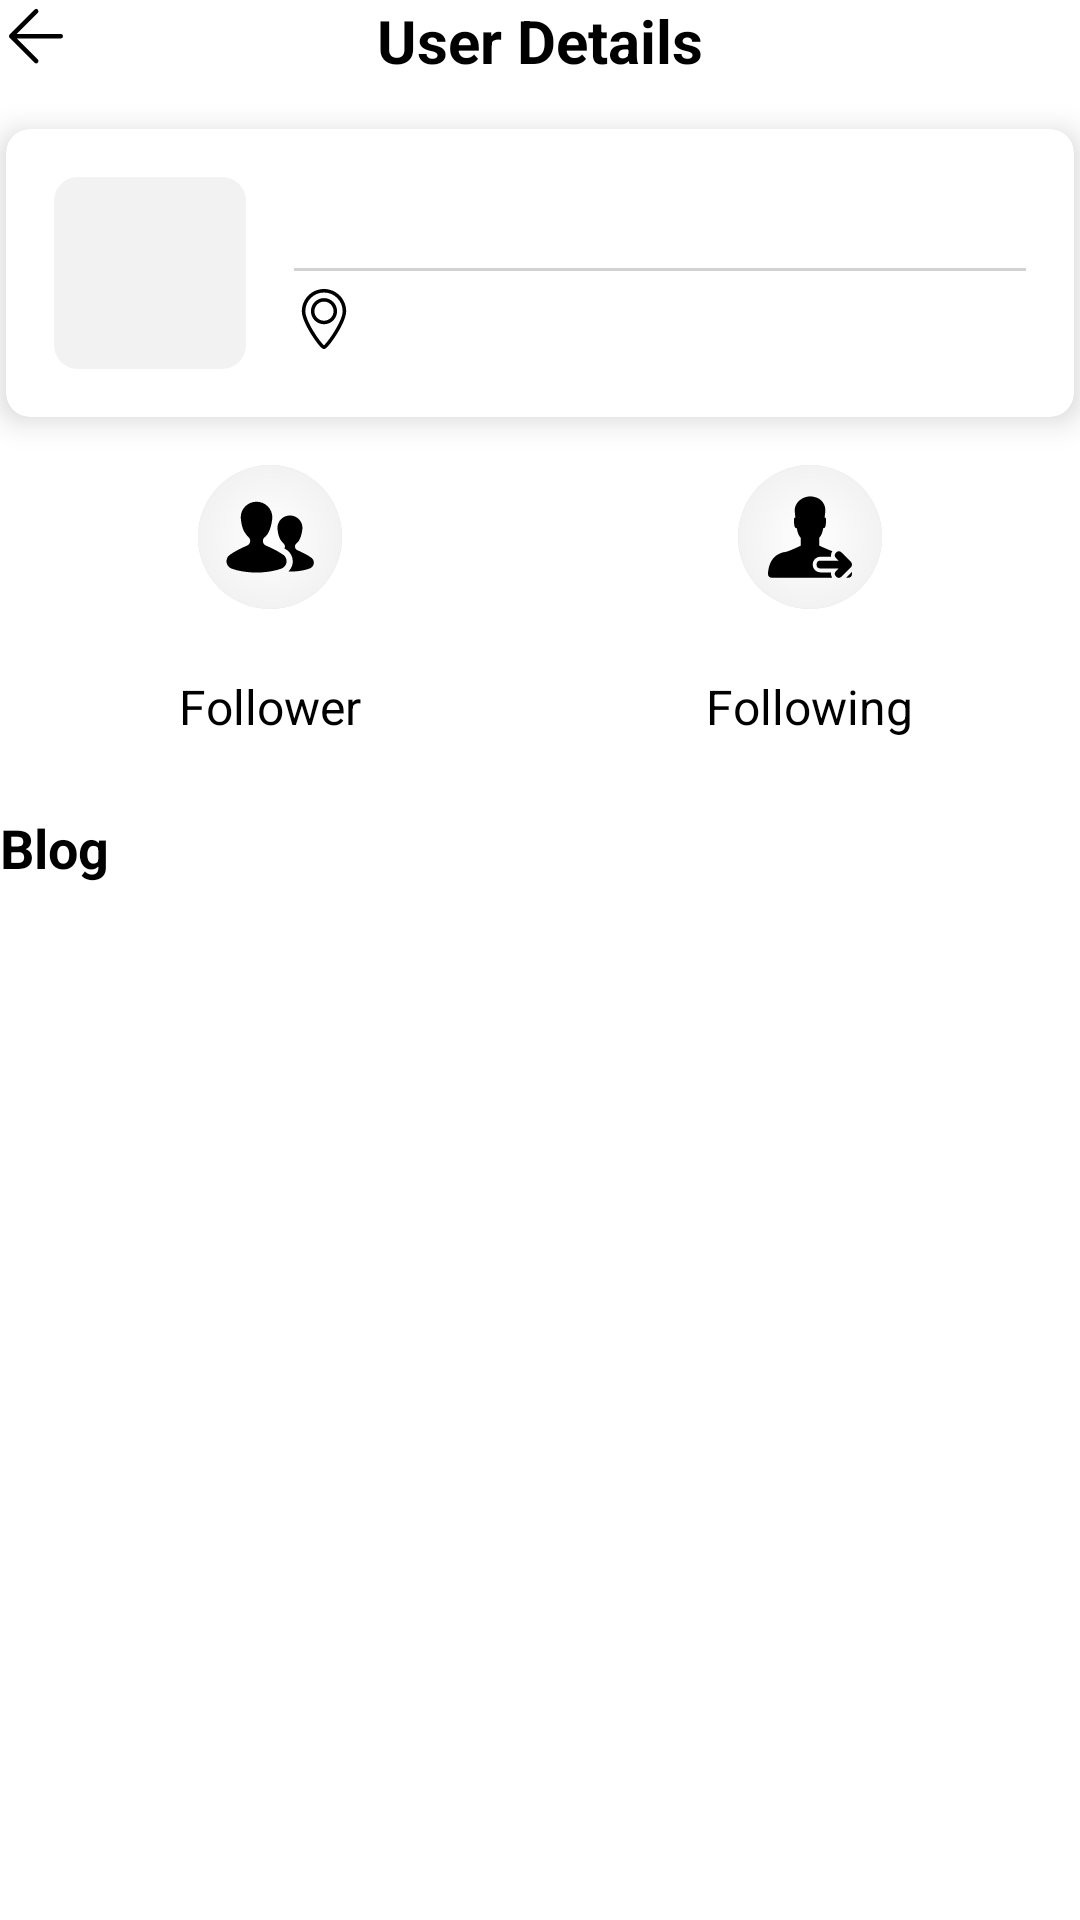

Named icons in this screenshot (1080 × 1920) and their centers, (x=x, y=y):
Back Button: (x=36, y=36)
location point: (x=324, y=319)
